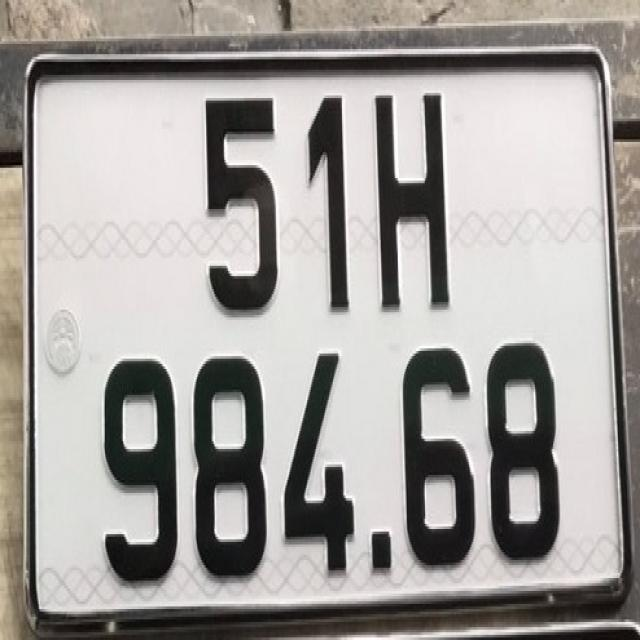1: (301, 88, 363, 329)
4: (280, 342, 360, 589)
5: (197, 83, 289, 315)
6: (398, 328, 478, 572)
8: (186, 348, 272, 584), (482, 332, 564, 566)
9: (98, 353, 180, 589)
H: (373, 80, 452, 320)
